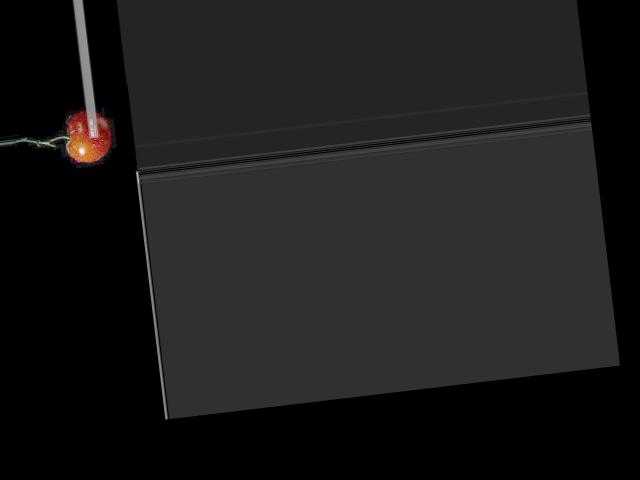tomato: (63, 109, 112, 163)
